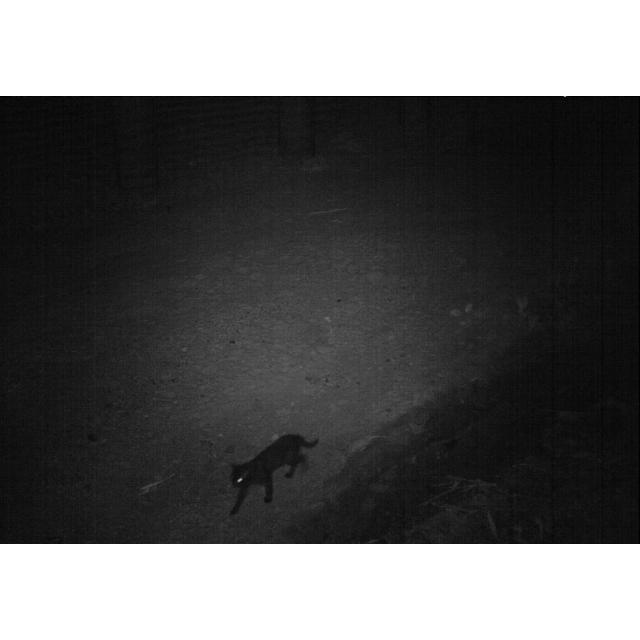animals: (228, 430, 322, 516)
